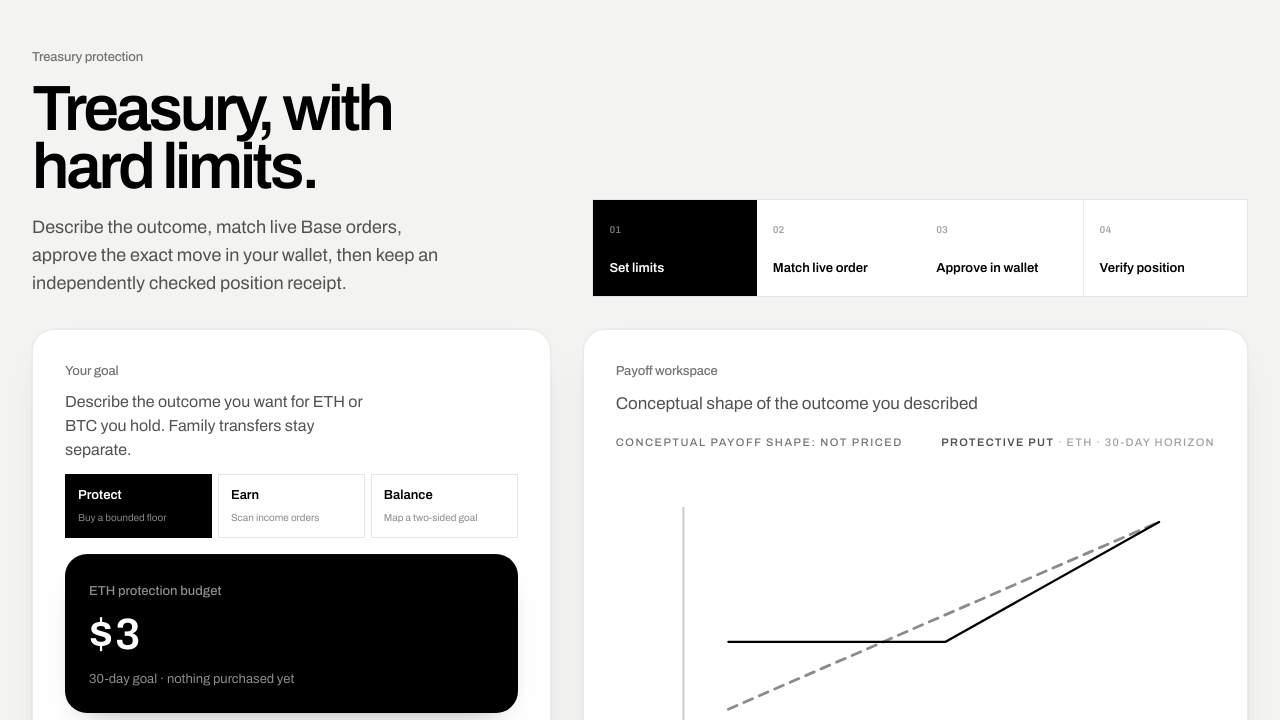
Test: StrategyDesk — notional accessible name and preset sizing › turns the income route into a USDC reserve scenario and live scan
Click the button with aria-label "earn premium on btc" at (291, 506), box [218,474,365,538]
(page scrolled)
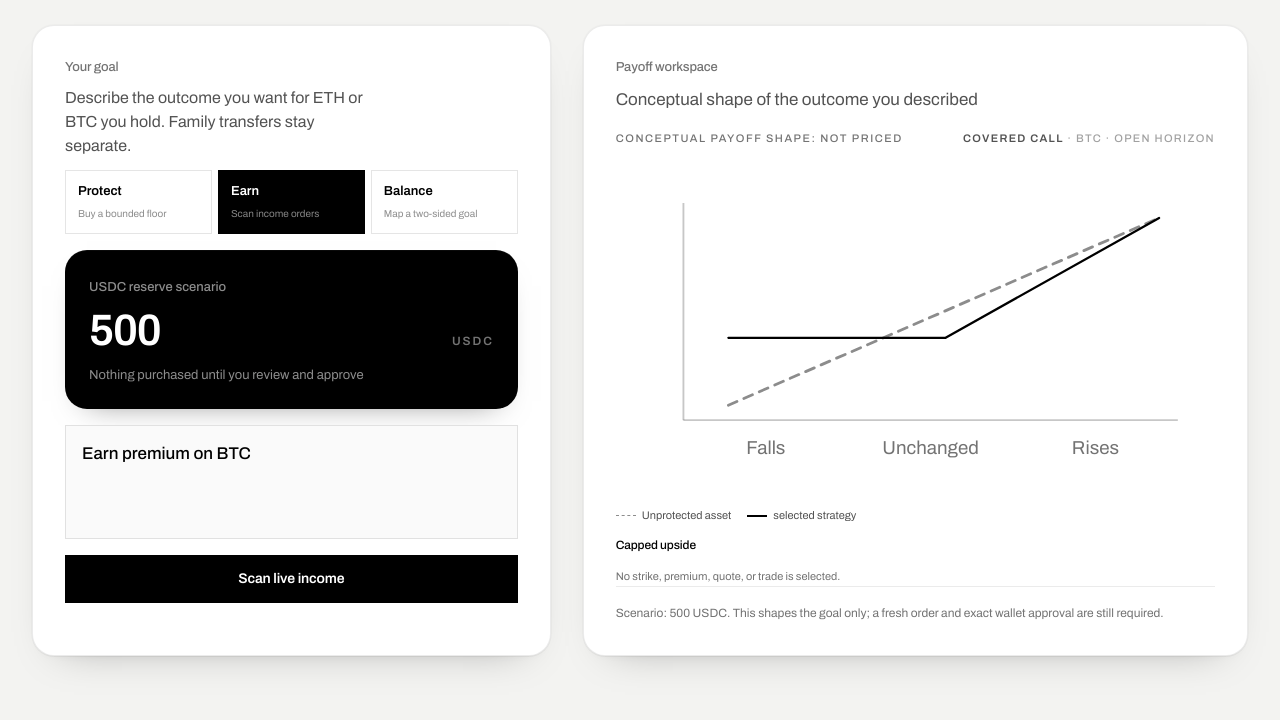
Check: the number field named "Reserve scenario in USDC" is shown, box [89,306,444,354]
Check: the button "Scan live income" is shown, box [65,555,518,603]
